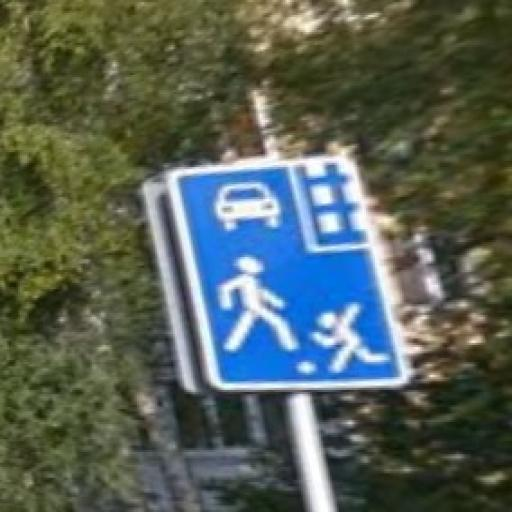traffic_sign: (167, 153, 410, 393)
